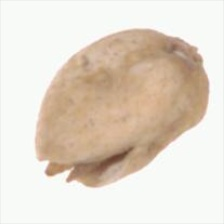L1: (34, 148, 105, 188), (156, 29, 206, 71)
L2: (33, 27, 210, 189)
